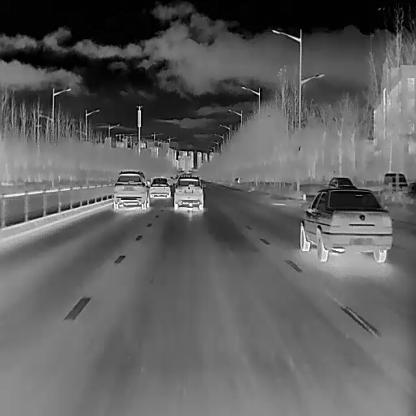car: (299, 186, 391, 262), (112, 169, 149, 209), (173, 175, 205, 210), (149, 176, 172, 199), (382, 172, 408, 190), (328, 176, 356, 188)
